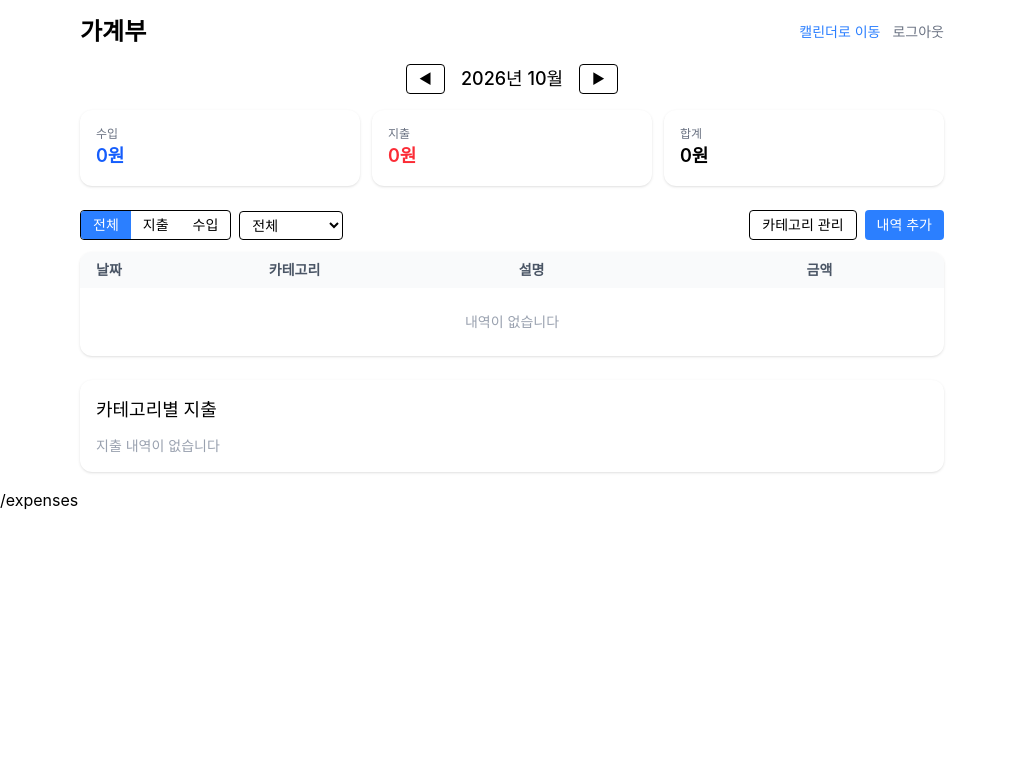
Test case: ExpensesPage › 내역 폼 › create_withValidInput_callsCreateExpenseAndReloads
The image size is (1024, 768).
Expected: the text "내역이 없습니다" is shown, [80, 288, 944, 356]
Click the button "내역 추가" at coordinates (904, 225), box [864, 210, 944, 240]
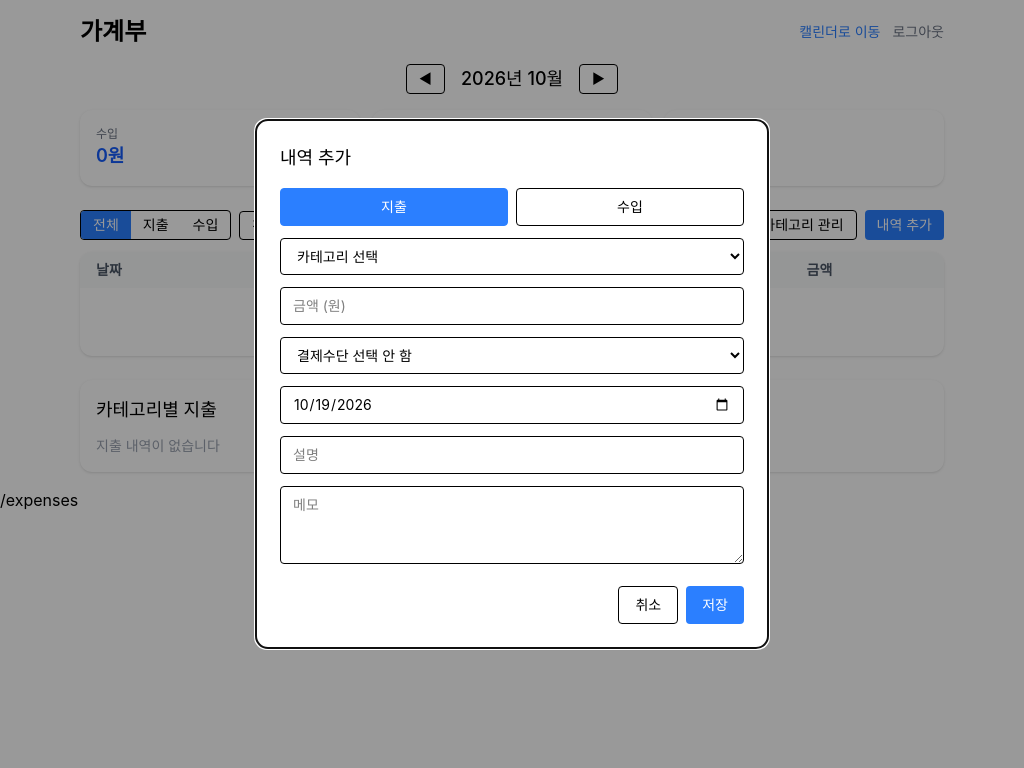
Select "식비" in the dropdown named "카테고리" at coordinates (512, 256), box [280, 238, 744, 275]
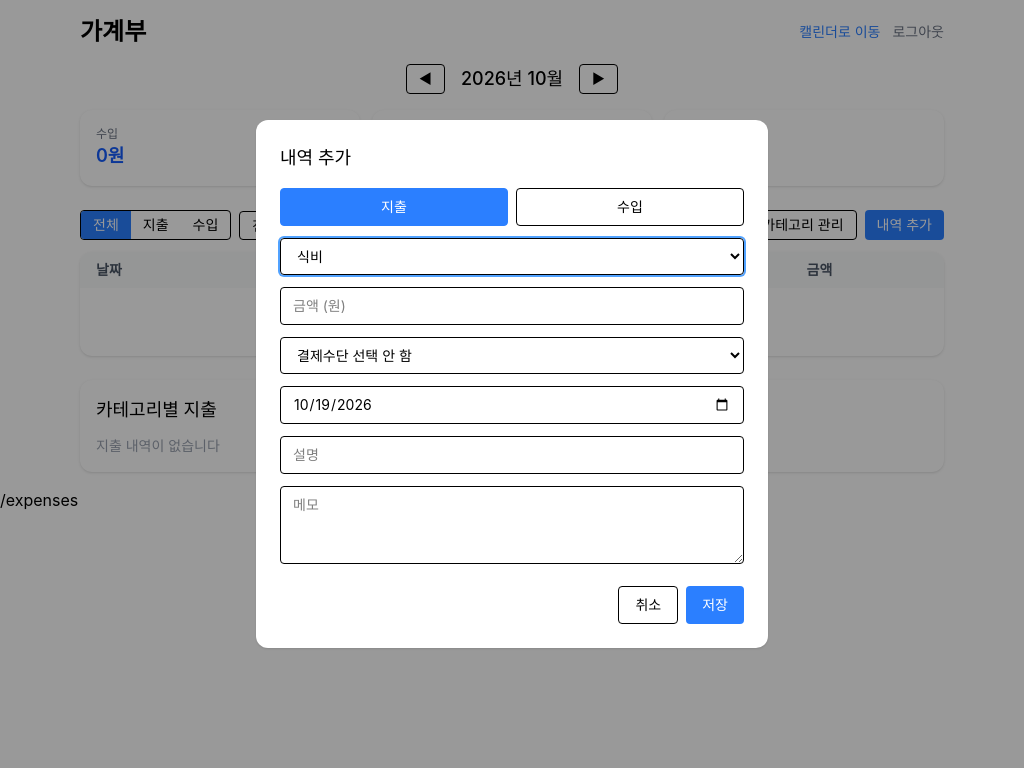
Type "12000" into the field with placeholder "금액 (원)" at coordinates (512, 306), box [280, 287, 744, 325]
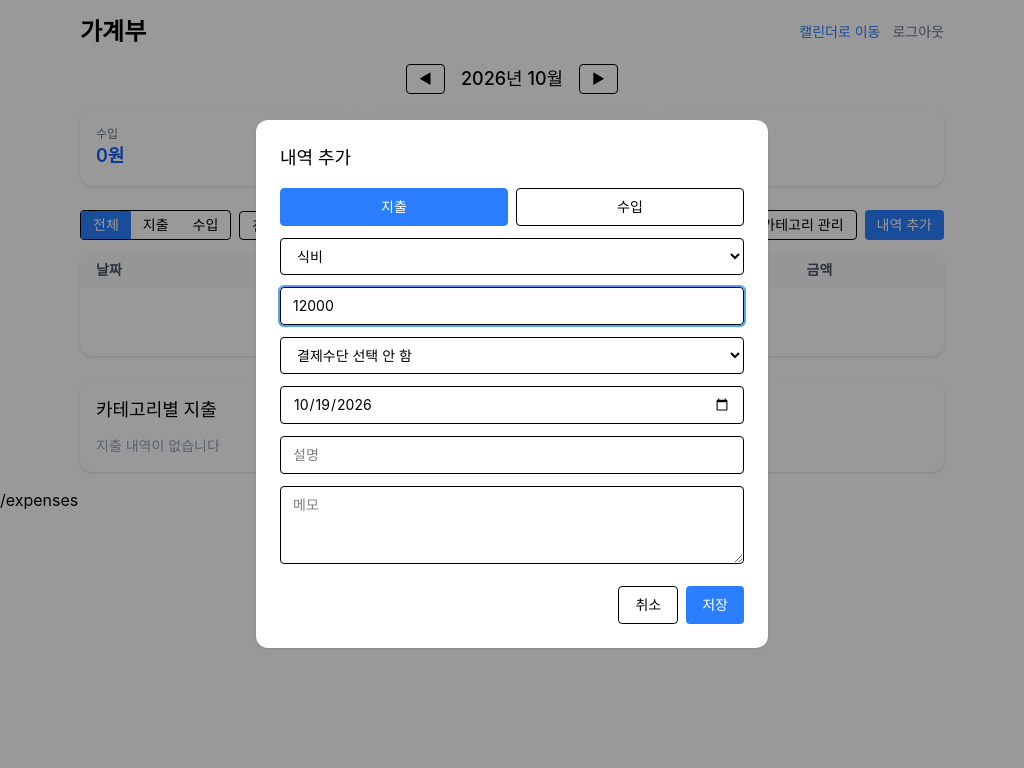
Type "점심" into the field with placeholder "설명" at coordinates (512, 455), box [280, 436, 744, 474]
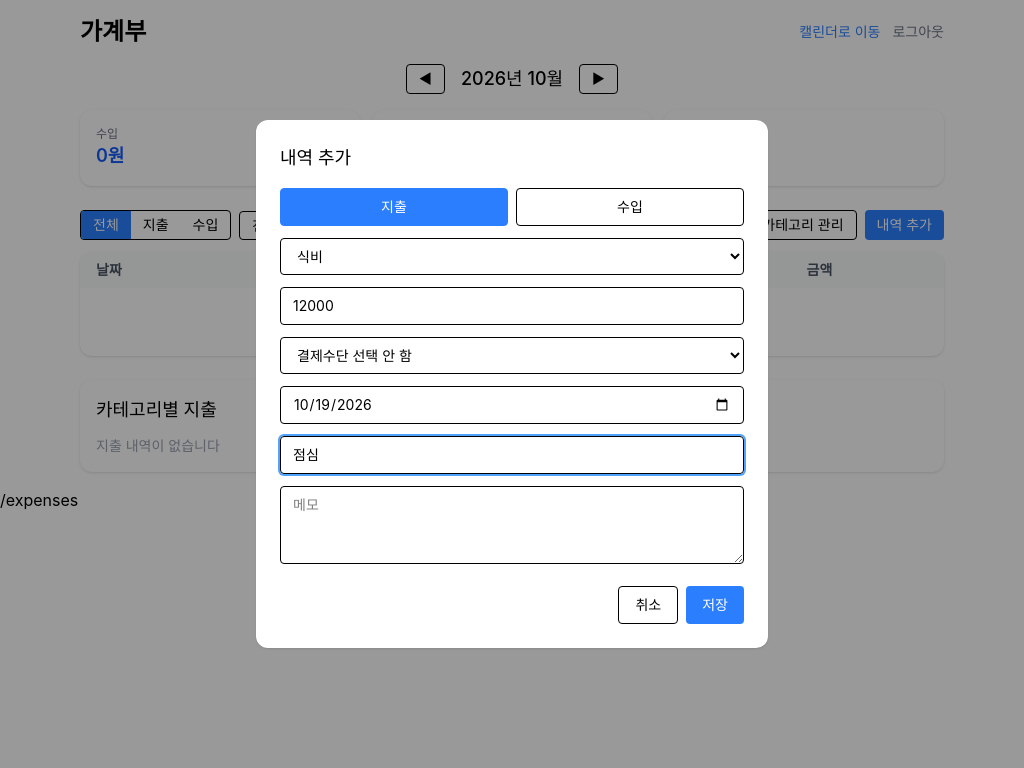
Type "회사 근처" into the text box with placeholder "메모" at coordinates (512, 525), box [280, 486, 744, 564]
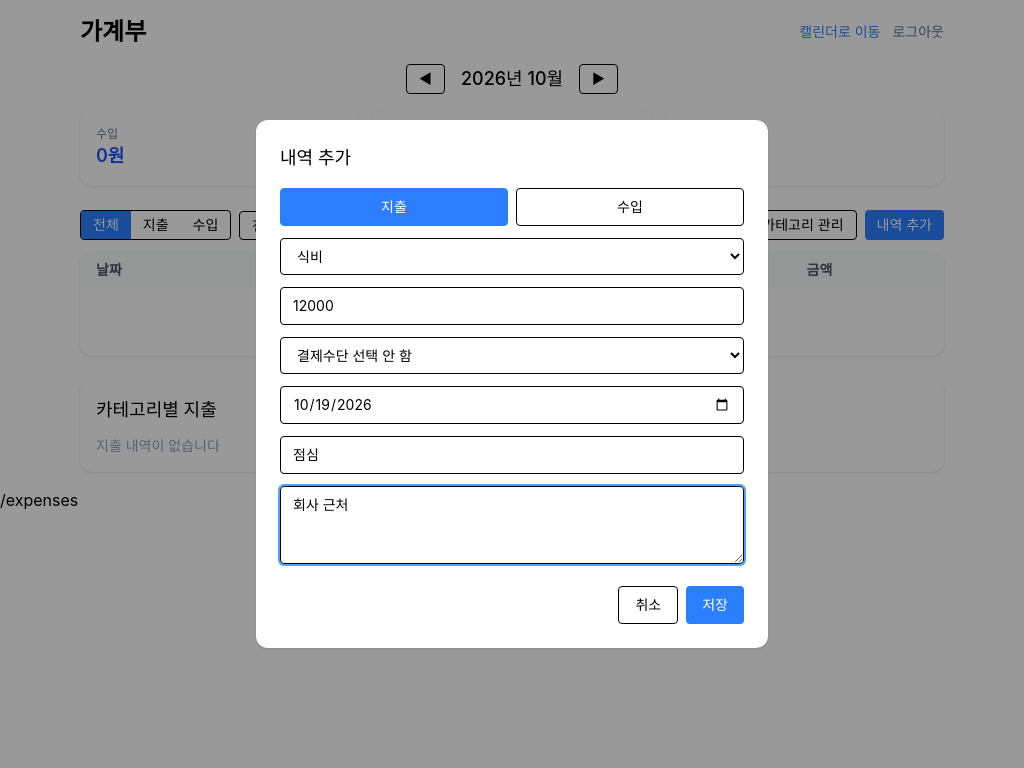
Click the button "저장" at coordinates (715, 605), box [686, 586, 744, 624]
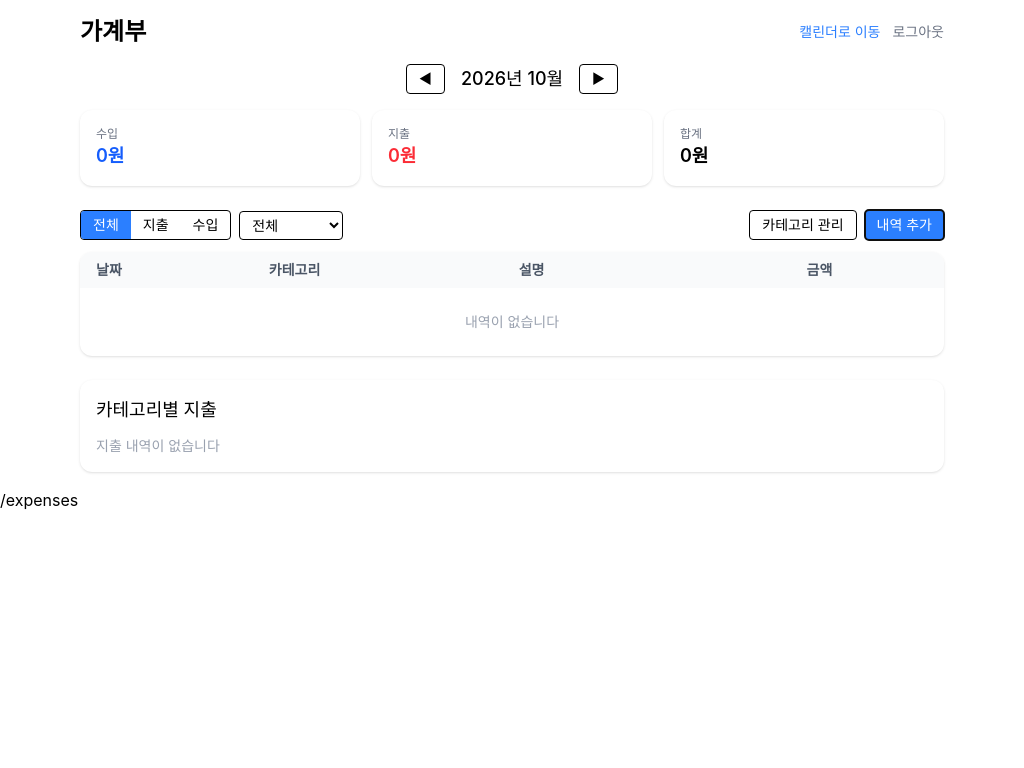
Expected: the dialog is gone
